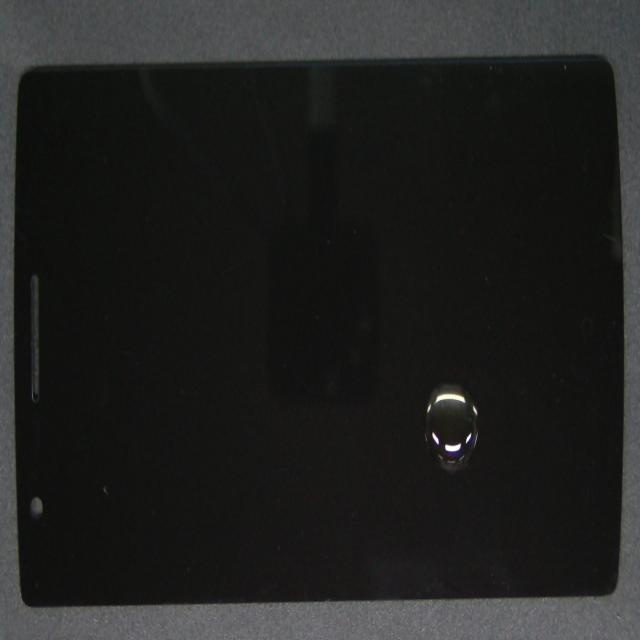oil: (242, 240, 640, 640)
